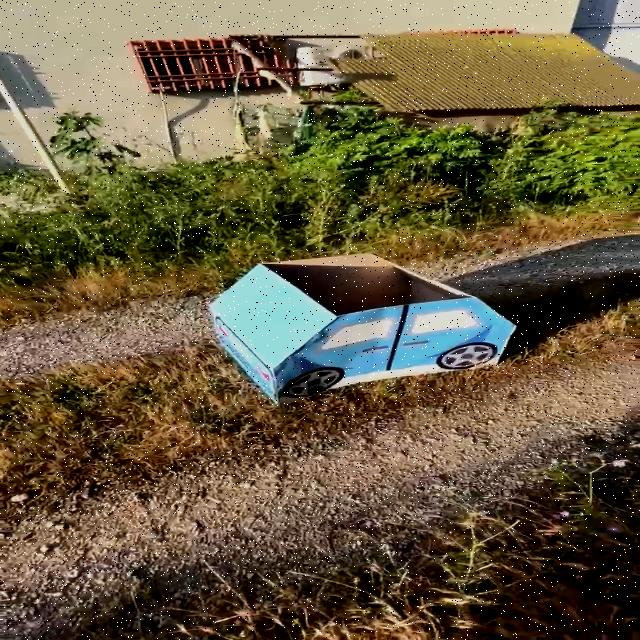blue_car: (167, 218, 535, 410)
